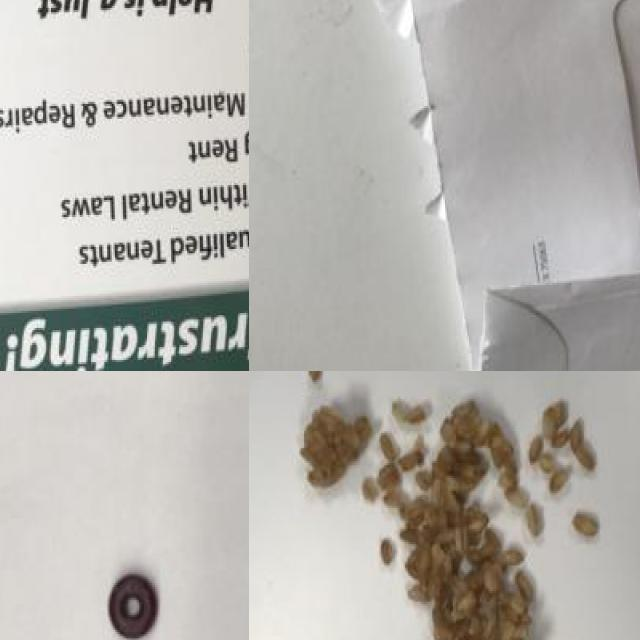compost: (264, 371, 609, 640), (91, 561, 174, 640)
paper: (359, 0, 640, 371), (0, 0, 249, 371)
